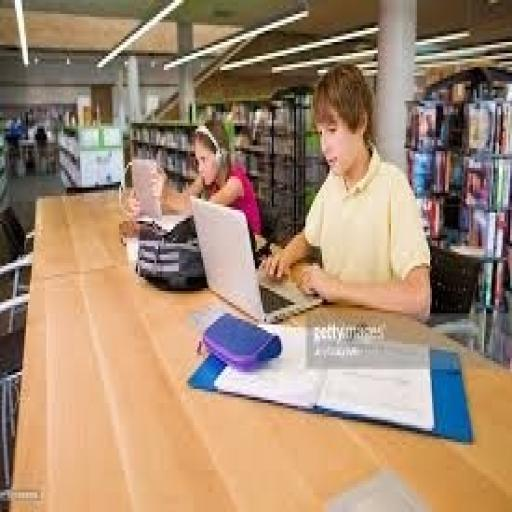using_laptop: (188, 190, 322, 325)
